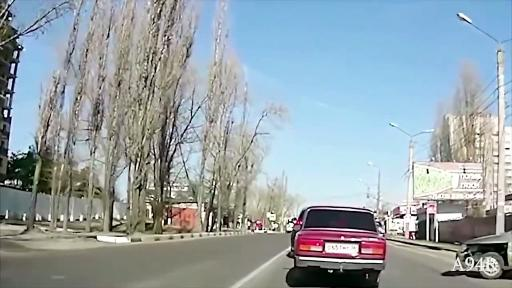CAR: (270, 193, 406, 288)
